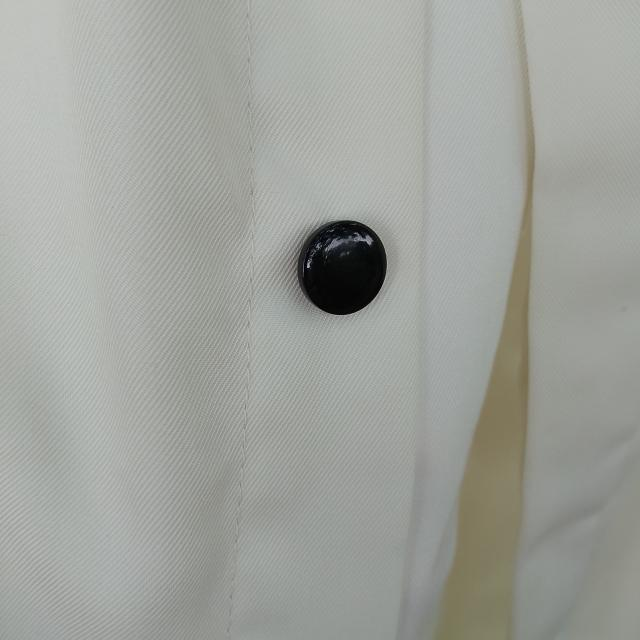education_male_uniform: (0, 37, 612, 445)
